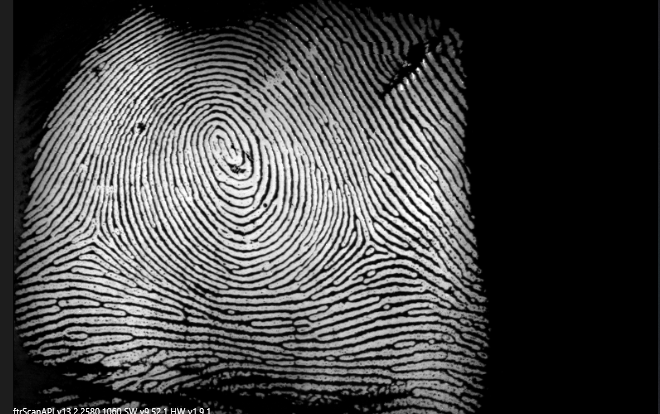nucelo: (196, 117, 250, 168)
verticilo: (77, 224, 110, 253), (356, 231, 386, 258)
